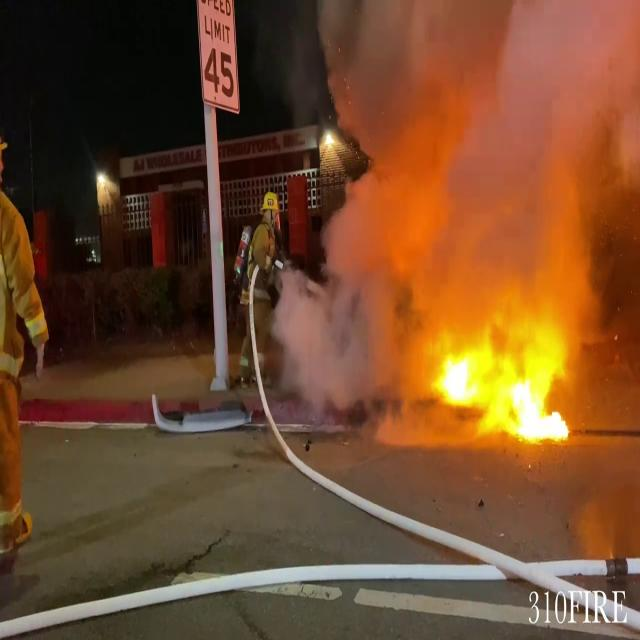Fire: (418, 317, 582, 446)
Smoke: (291, 1, 640, 371)
